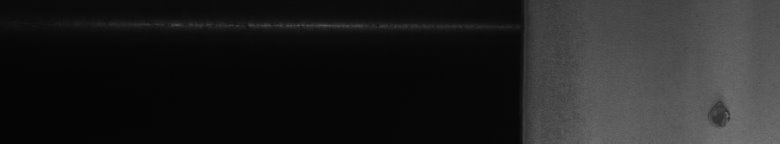fi: (704, 97, 735, 132)
